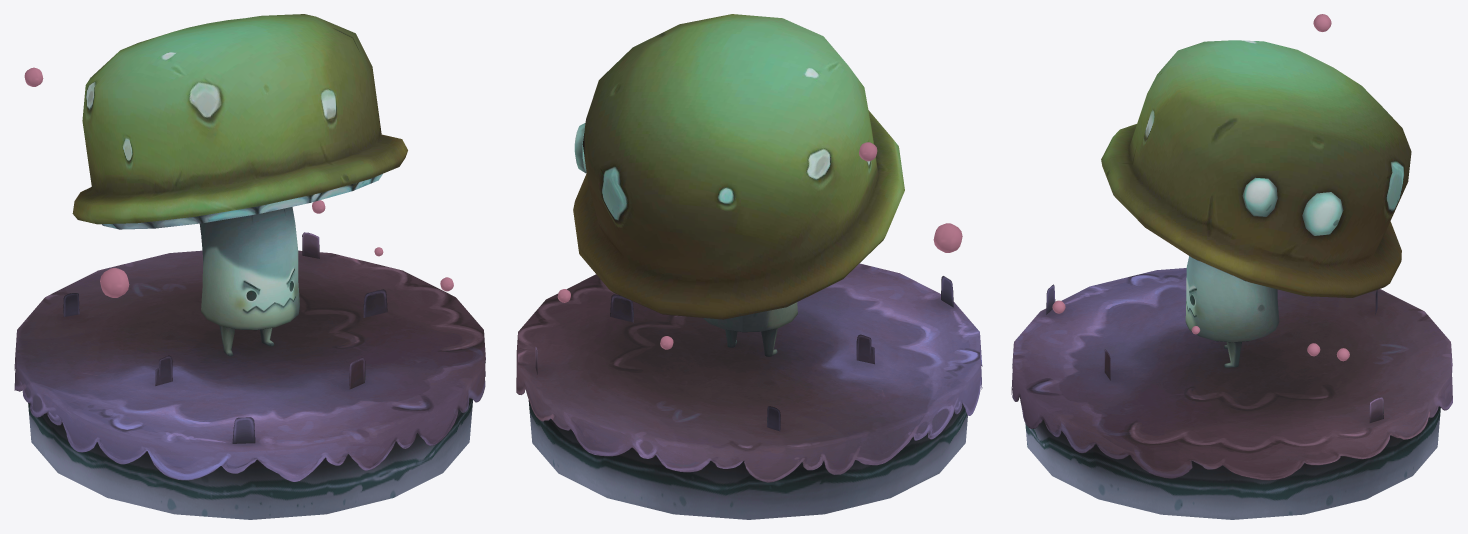
The model's file is mushroom115.gltf.
3 views of the same model, side by side, from view 1: azimuth 30°, elevation 25°; view 2: azimuth 150°, elevation 25°; view 3: azimuth 270°, elevation 25° (orthographic). The views are drawn at different scales.
Parts seen in each view (by area): view 1: Mesh_0, Mesh_1; view 2: Mesh_0, Mesh_1; view 3: Mesh_0, Mesh_1.
Part boxes in pixels (<box>): Mesh_0: <box>14,67,485,519</box>; Mesh_1: <box>72,14,407,356</box>; Mesh_0: <box>516,142,982,519</box>; Mesh_1: <box>573,14,904,356</box>; Mesh_0: <box>1011,14,1452,519</box>; Mesh_1: <box>1101,40,1411,367</box>.
Size of the model in its own units: 2.97 by 2.71 by 2.92.
Materials: 2 (2 with a texture image).
